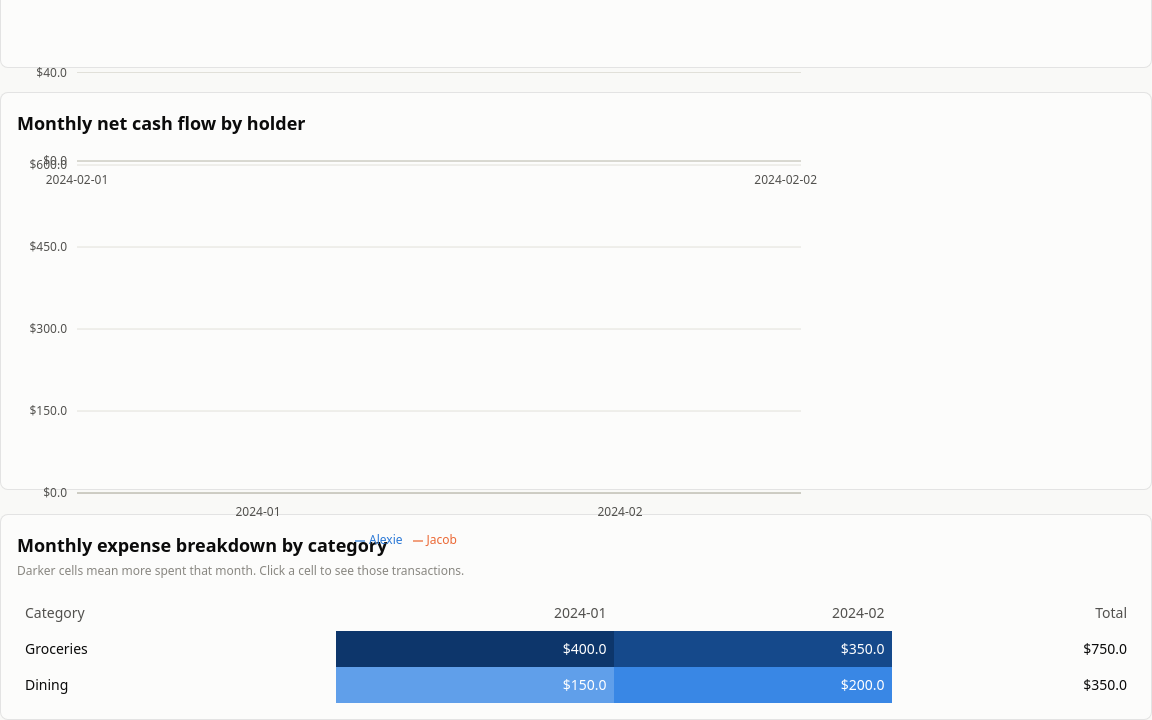
Test: CashFlowTab › opens the transactions preview filtered to category and month when a heatmap cell is clicked
The image size is (1152, 720).
(page scrolled)
Click the cell titled "Groceries · 2024-01: $400" at (476,649), box [336,631,614,667]
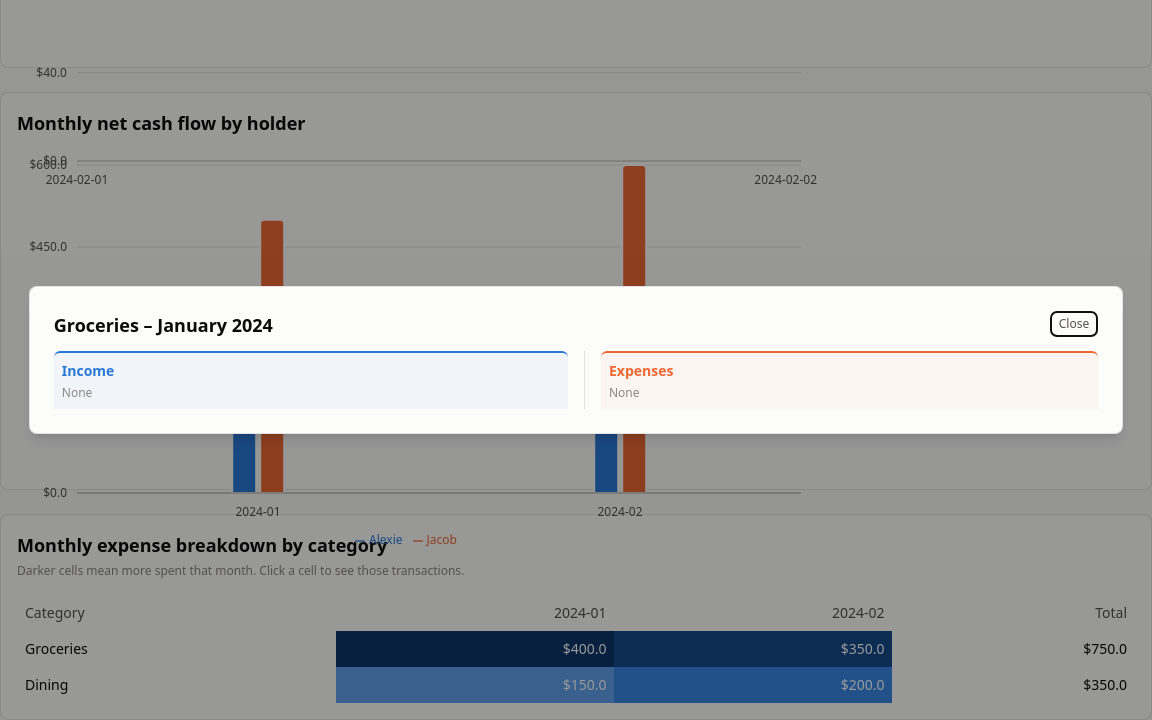
Expected: the dialog is shown, [29,286,1123,434]
Expected: the heading "Groceries – January 2024" is shown, [54,311,273,339]
